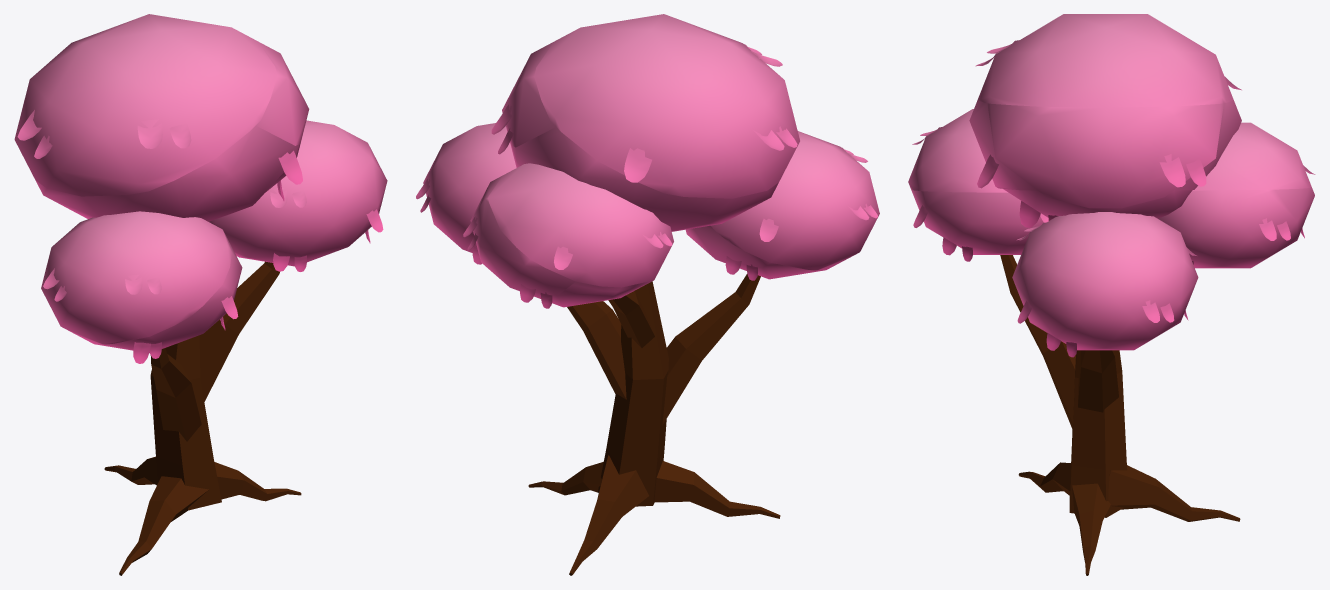
Rendered from Sacura.fbx.
3 renders of one model, left to right at view 1: azimuth 30°, elevation 25°; view 2: azimuth 150°, elevation 25°; view 3: azimuth 270°, elevation 25°, orthographic.
Parts seen in each view (by area): view 1: Sacura; view 2: Sacura; view 3: Sacura.
Boxes of the visible parts, bbox=[...] form: Sacura: bbox=[14, 14, 387, 575]; Sacura: bbox=[416, 14, 879, 575]; Sacura: bbox=[908, 14, 1315, 575].
Bounding box in the file's own units: 1.92 × 1.82 × 2.41.
